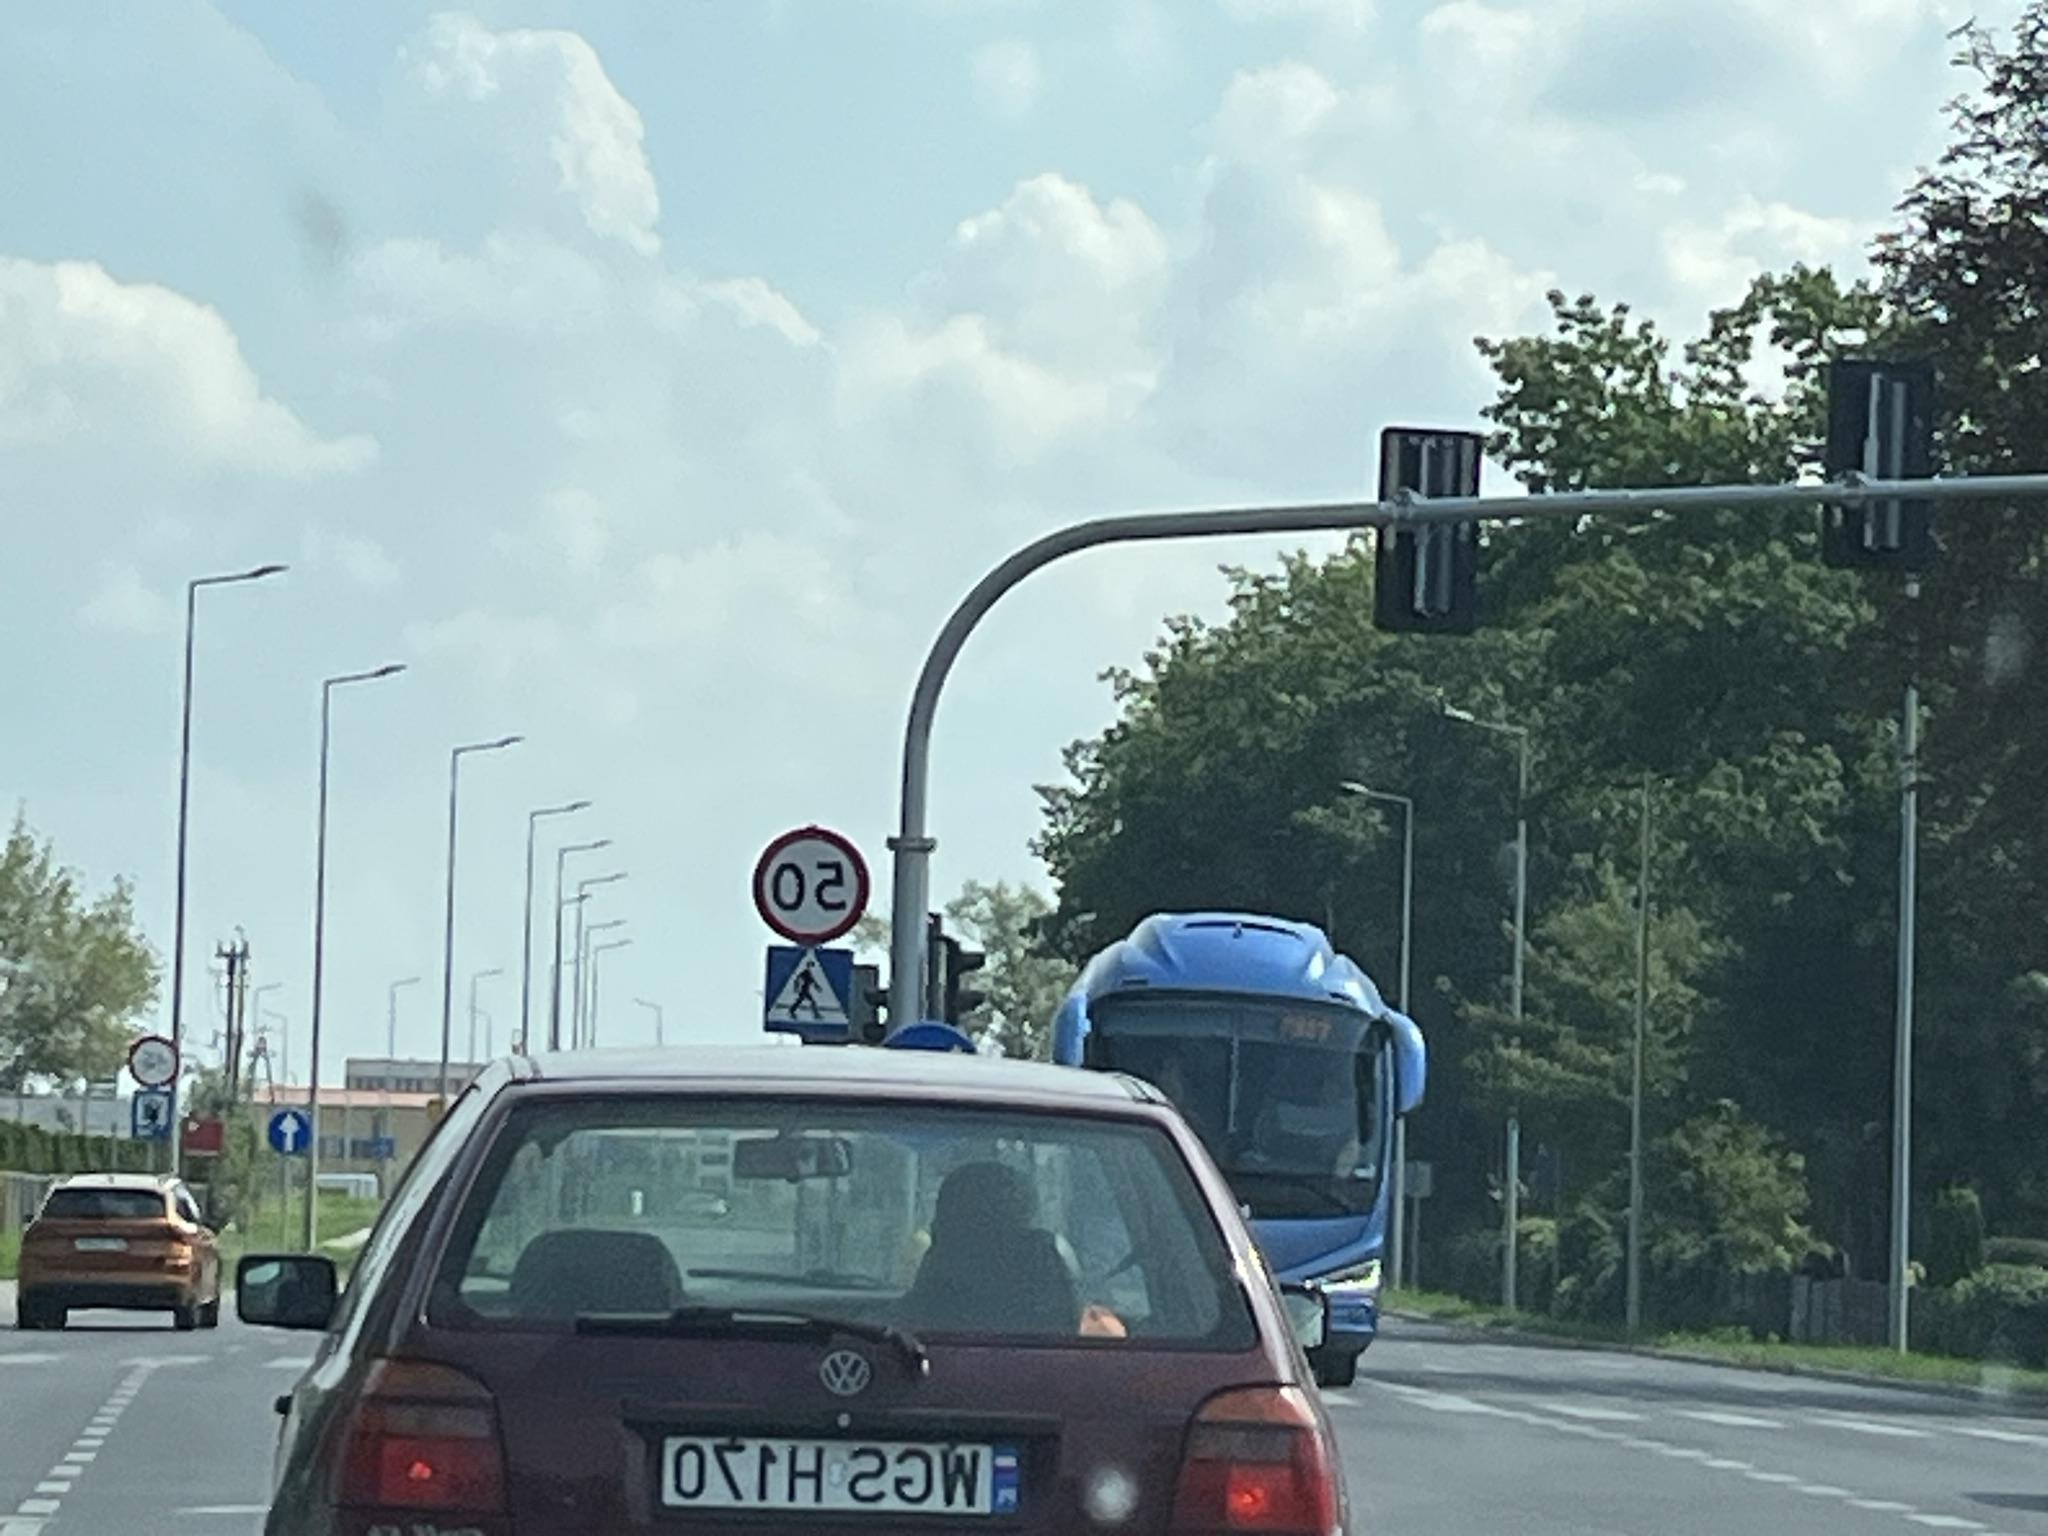information: (766, 949, 851, 1029)
mandatory: (268, 1110, 310, 1155)
prohibitory: (751, 826, 872, 945), (126, 1036, 181, 1087)
